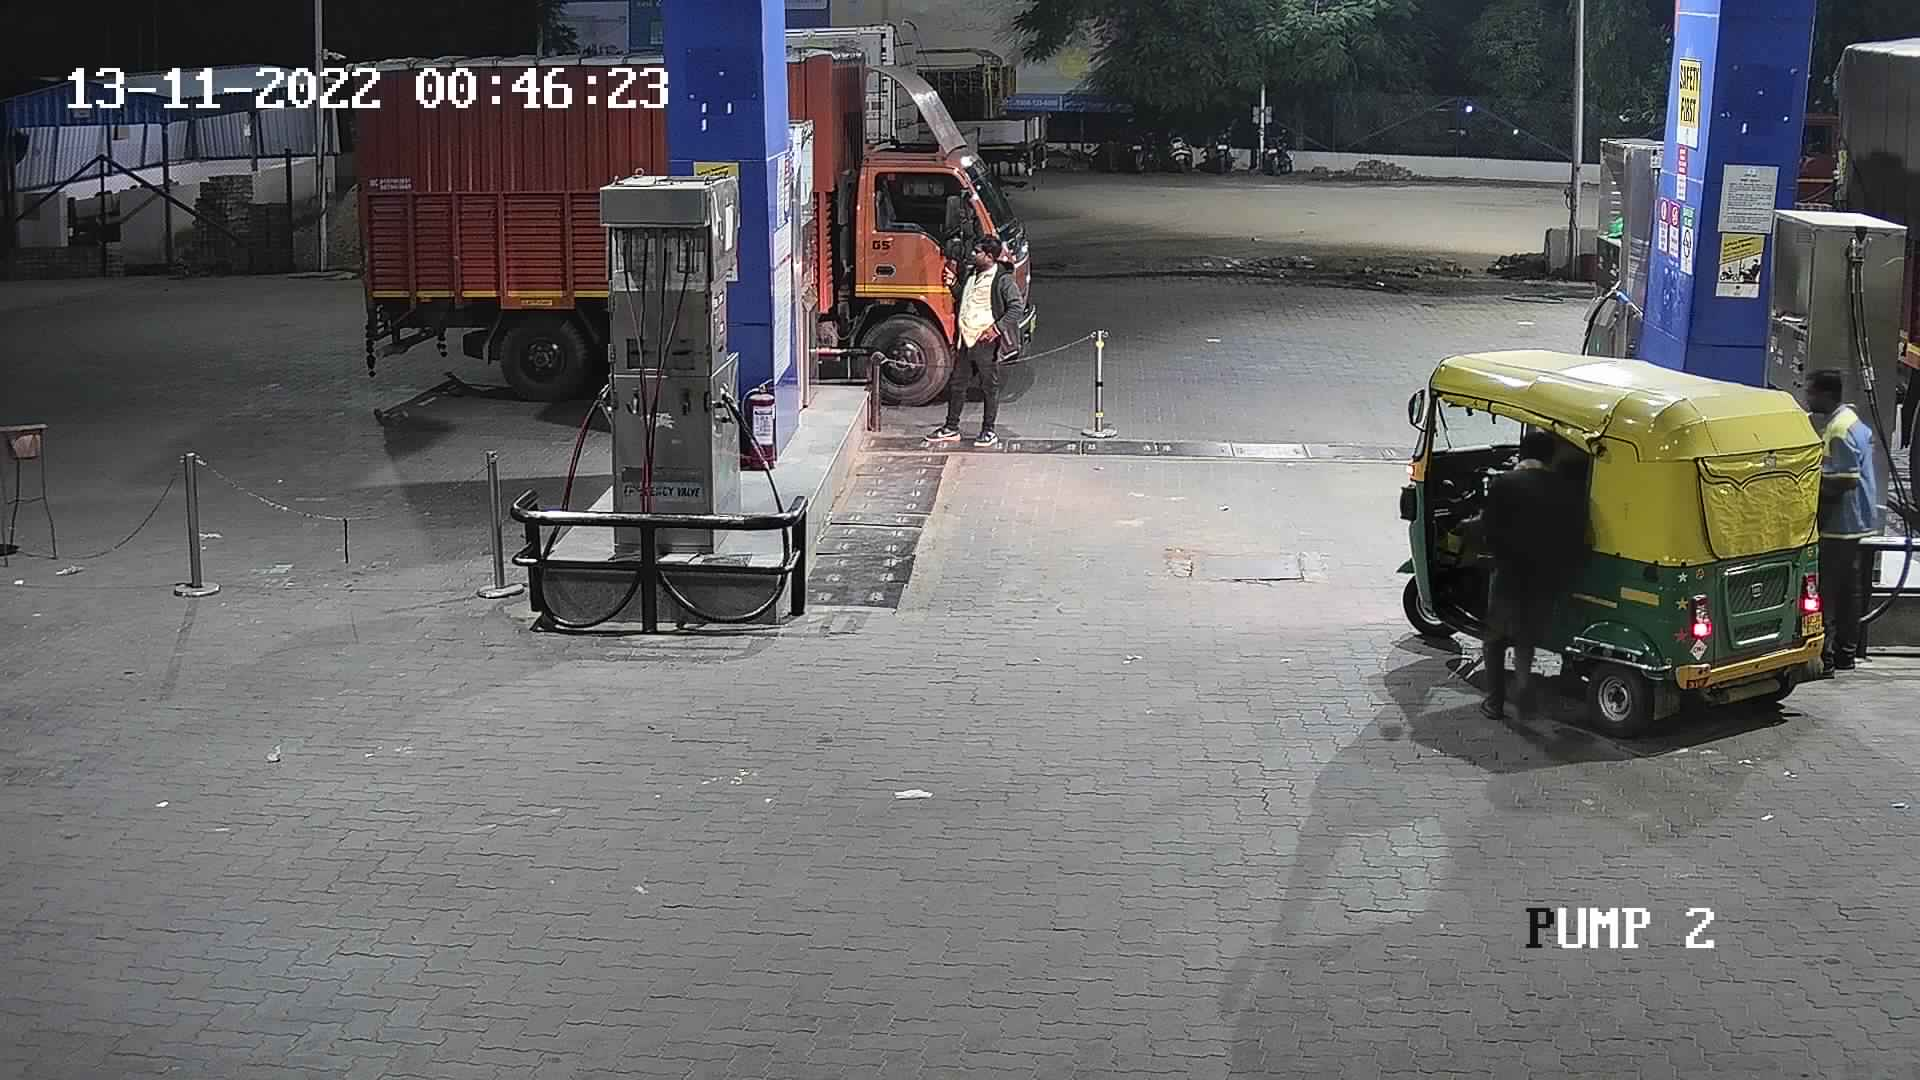Auto: (1390, 339, 1844, 756)
Bike: (1112, 107, 1162, 179), (1195, 113, 1247, 179), (1251, 120, 1303, 185), (1151, 111, 1200, 177)
HMV: (313, 20, 676, 401), (1764, 15, 1917, 531), (889, 32, 1065, 200)
Others: (1793, 361, 1887, 676)
